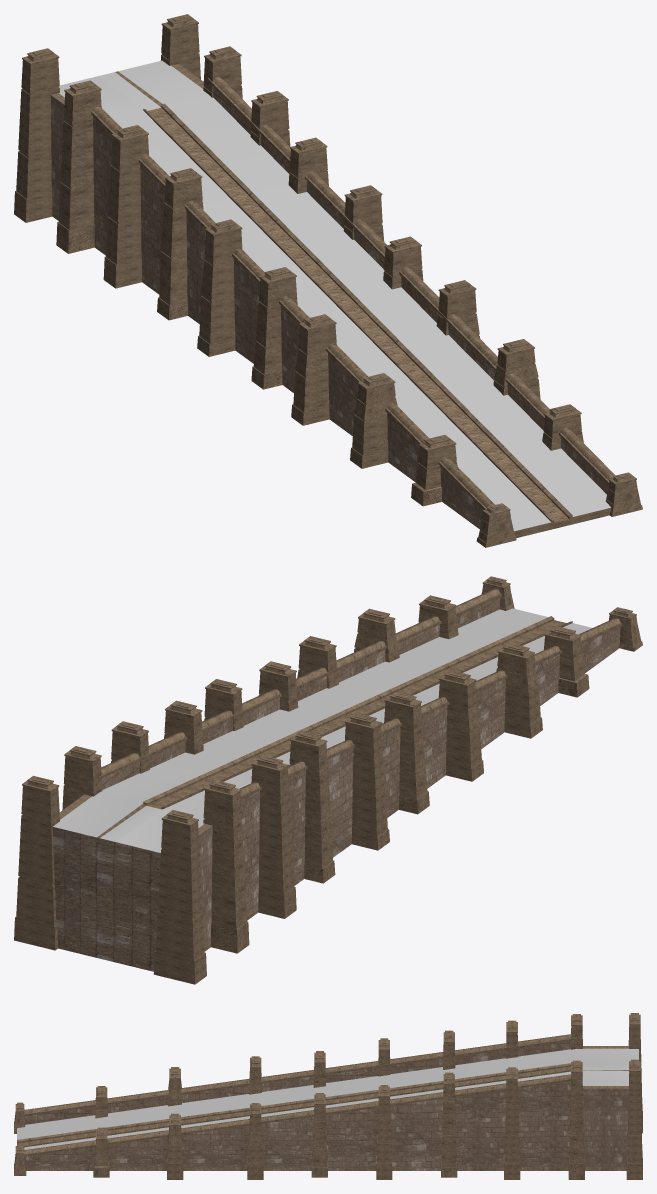
Rendered from Stair.fbx.
The picture shows the model from 3 angles, top to bottom: view 1: azimuth 30°, elevation 25°; view 2: azimuth 150°, elevation 25°; view 3: azimuth 270°, elevation 25°; orthographic projection. The views are drawn at different scales.
Parts seen in each view (by area): view 1: stair; view 2: stair; view 3: stair.
Boxes of the visible parts, x1=… form: stair: x1=14, y1=14, x2=642, y2=547; stair: x1=14, y1=576, x2=642, y2=984; stair: x1=14, y1=1013, x2=642, y2=1179.
Bounding box in the file's own units: 574 × 489 × 2522.
